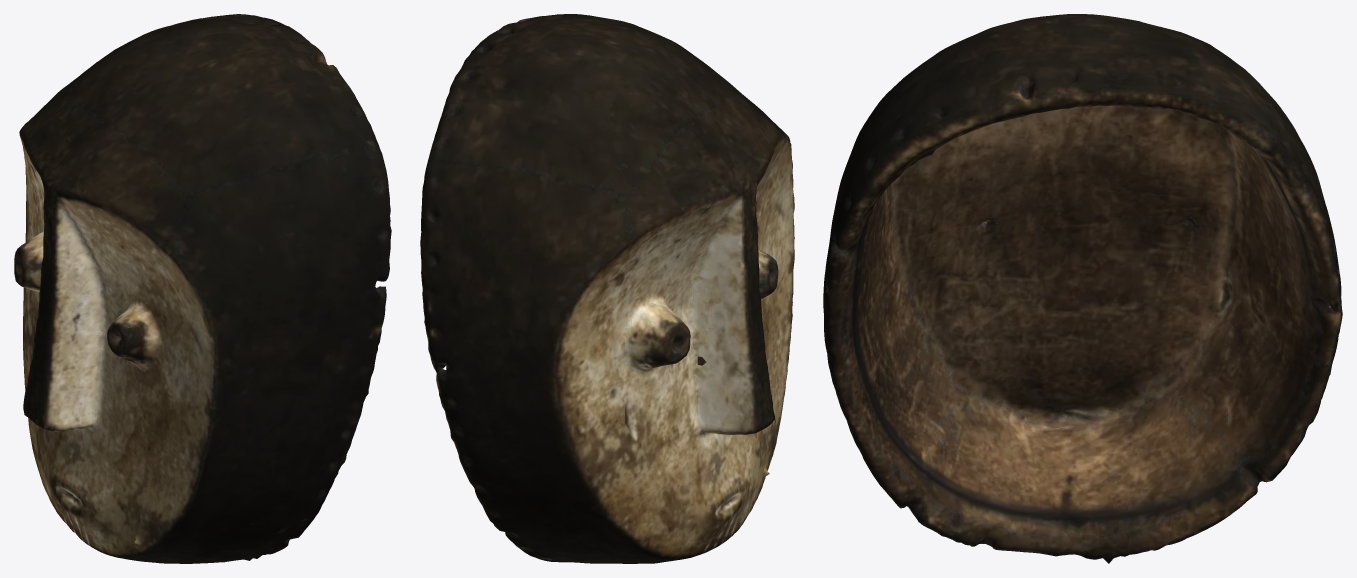
Rendered from preview.glb.
3 views of the same model, side by side, from view 1: azimuth 30°, elevation 25°; view 2: azimuth 150°, elevation 25°; view 3: azimuth 270°, elevation 25° (orthographic). The views are drawn at different scales.
Visible parts, largest first — view 1: Object_2; view 2: Object_2; view 3: Object_2.
Boxes of the visible parts, x1,y1,x2,y2 form: Object_2: [14, 14, 391, 563]; Object_2: [420, 14, 794, 563]; Object_2: [823, 14, 1342, 563].
Bounding box in the file's own units: 142 × 242 × 209.
Materials: 1 (1 with a texture image).
